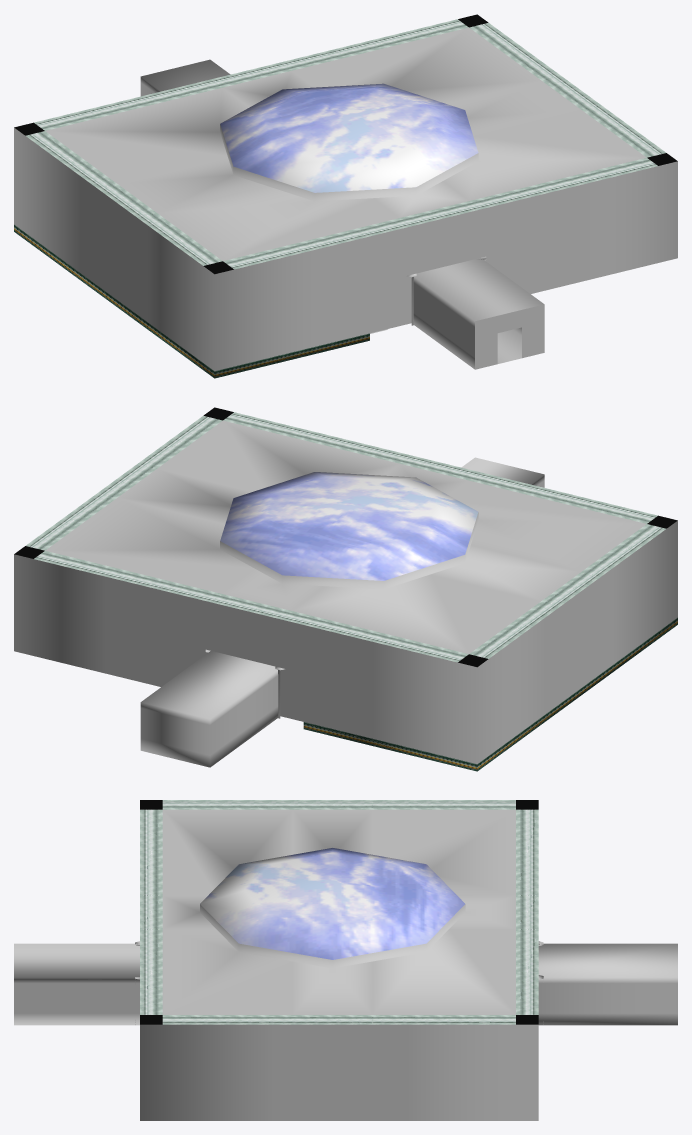
Rendered from courtyard.obj.
The picture shows the model from 3 angles, top to bottom: view 1: azimuth 30°, elevation 25°; view 2: azimuth 150°, elevation 25°; view 3: azimuth 270°, elevation 25°; orthographic projection.
Parts seen in each view (by area): view 1: object_0000B098, object_00004F68, object_00010DFC, object_00006850, object_00011198, object_00010A74; view 2: object_0000B098, object_00004F68, object_00010A74, object_00006850, object_00010DFC; view 3: object_0000B098, object_00004F68, object_00010A74, object_00010DFC.
Part boxes in pixels (x1=…): object_0000B098: x1=14, y1=14, x2=677, y2=274; object_00004F68: x1=14, y1=128, x2=677, y2=371; object_00010DFC: x1=413, y1=258, x2=543, y2=369; object_00006850: x1=14, y1=224, x2=369, y2=378; object_00011198: x1=475, y1=304, x2=544, y2=369; object_00010A74: x1=140, y1=59, x2=230, y2=96; object_0000B098: x1=14, y1=407, x2=677, y2=667; object_00004F68: x1=14, y1=521, x2=677, y2=764; object_00010A74: x1=140, y1=651, x2=278, y2=767; object_00006850: x1=303, y1=617, x2=677, y2=771; object_00010DFC: x1=461, y1=457, x2=544, y2=487; object_0000B098: x1=140, y1=800, x2=538, y2=1024; object_00004F68: x1=140, y1=1024, x2=538, y2=1120; object_00010A74: x1=538, y1=943, x2=677, y2=1025; object_00010DFC: x1=14, y1=943, x2=139, y2=1025.
Size of the model in its own units: 400 by 110 by 500.
